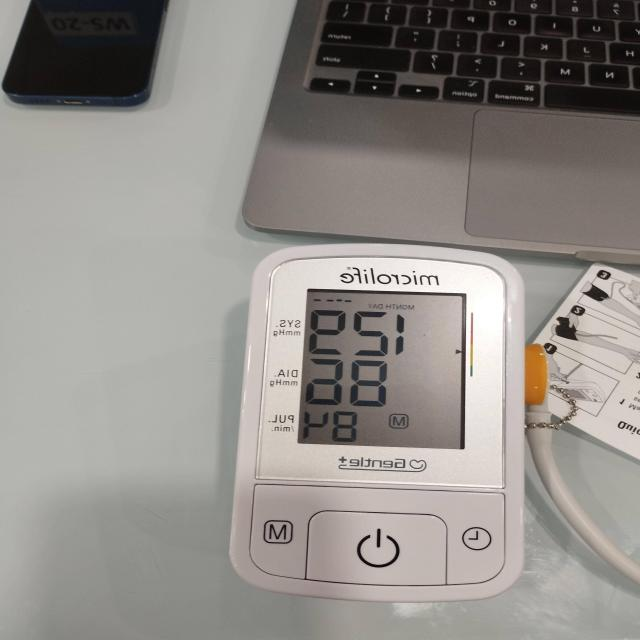bp: (228, 246, 525, 605)
